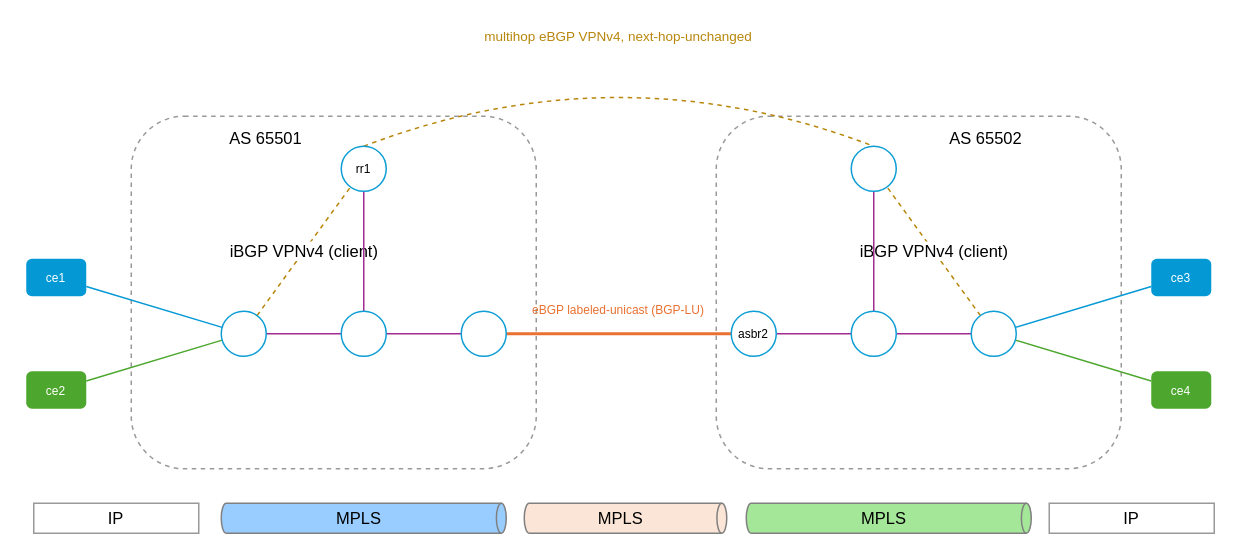
Some shapes in this 1241 by 560 pixel diagram are drawn without their labels. The shapes that lost their labels are listed below. From the top down, each one's centre as x and y in pixels, then its label:
point 873,168: rr2
point 243,333: pe1
point 363,333: p1
point 483,333: asbr1
point 873,333: p2
point 993,333: pe2
